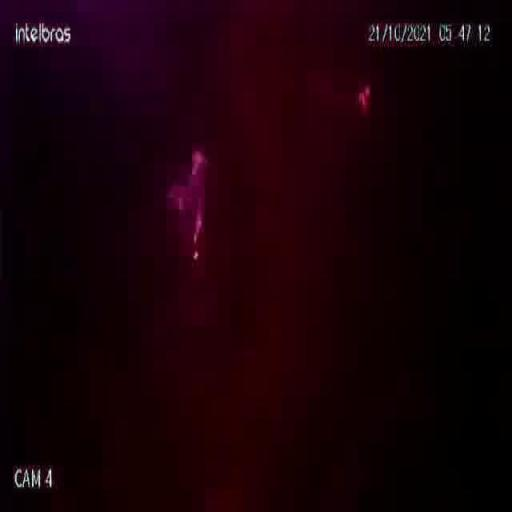smoke: (140, 103, 244, 306)
